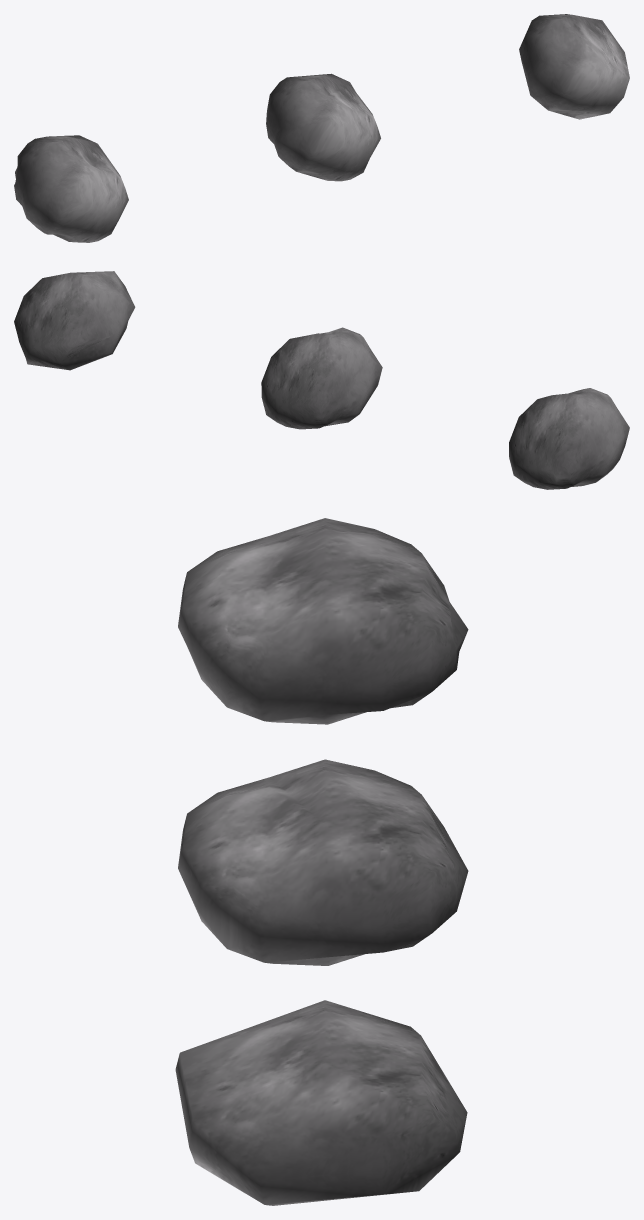
Rendered from asteroid_2_hw2c.dae.
The picture shows the model from 3 angles, top to bottom: view 1: azimuth 30°, elevation 25°; view 2: azimuth 150°, elevation 25°; view 3: azimuth 270°, elevation 25°; orthographic projection. The views are drawn at different scales.
Parts seen in each view (by area): view 1: MULT[asteroid_02]_LOD[0], MULT[asteroid_02]_LOD[1], MULT[asteroid_02]_LOD[2]; view 2: MULT[asteroid_02]_LOD[0], MULT[asteroid_02]_LOD[1], MULT[asteroid_02]_LOD[2]; view 3: MULT[asteroid_02]_LOD[1], MULT[asteroid_02]_LOD[0], MULT[asteroid_02]_LOD[2].
Boxes of the visible parts, box(x1,y1,x2,y2) form: MULT[asteroid_02]_LOD[0]: box(14, 135, 128, 242); MULT[asteroid_02]_LOD[1]: box(266, 73, 380, 181); MULT[asteroid_02]_LOD[2]: box(519, 14, 629, 119); MULT[asteroid_02]_LOD[0]: box(509, 388, 629, 489); MULT[asteroid_02]_LOD[1]: box(261, 327, 382, 429); MULT[asteroid_02]_LOD[2]: box(14, 271, 135, 370); MULT[asteroid_02]_LOD[1]: box(178, 759, 468, 965); MULT[asteroid_02]_LOD[0]: box(178, 518, 468, 724); MULT[asteroid_02]_LOD[2]: box(175, 1000, 467, 1205).
Bounding box in the file's own units: 234 × 35.81 × 51.28.
